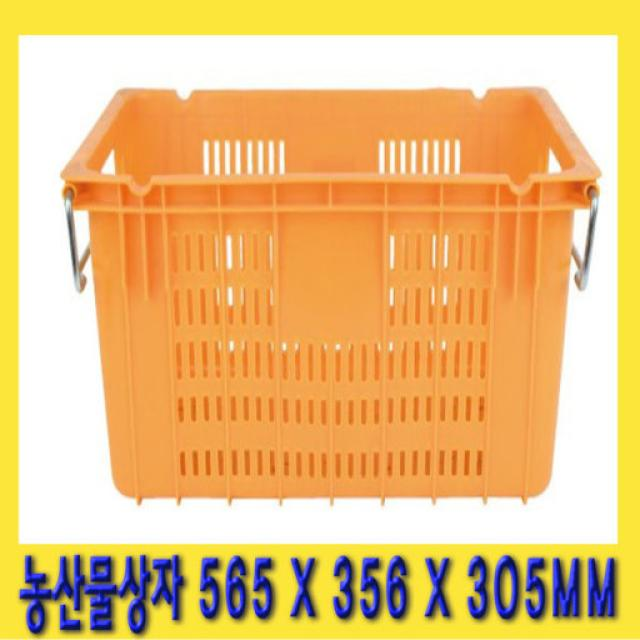basket: (63, 89, 601, 501)
